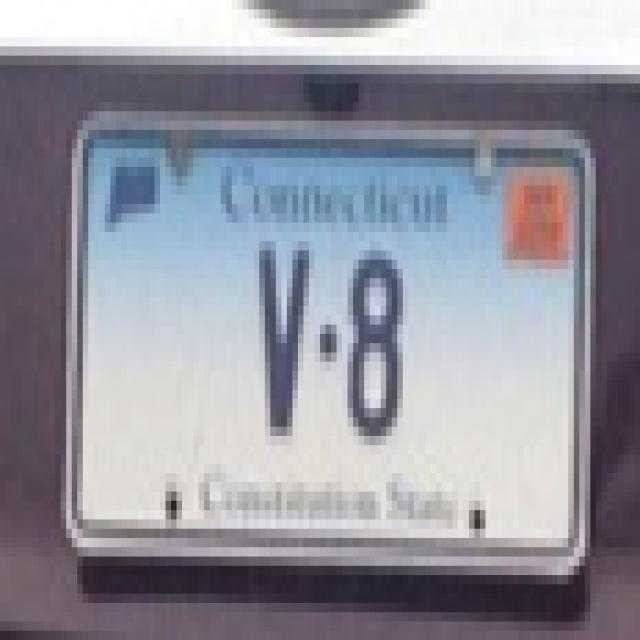8: (344, 228, 412, 481)
V: (248, 214, 316, 454)
